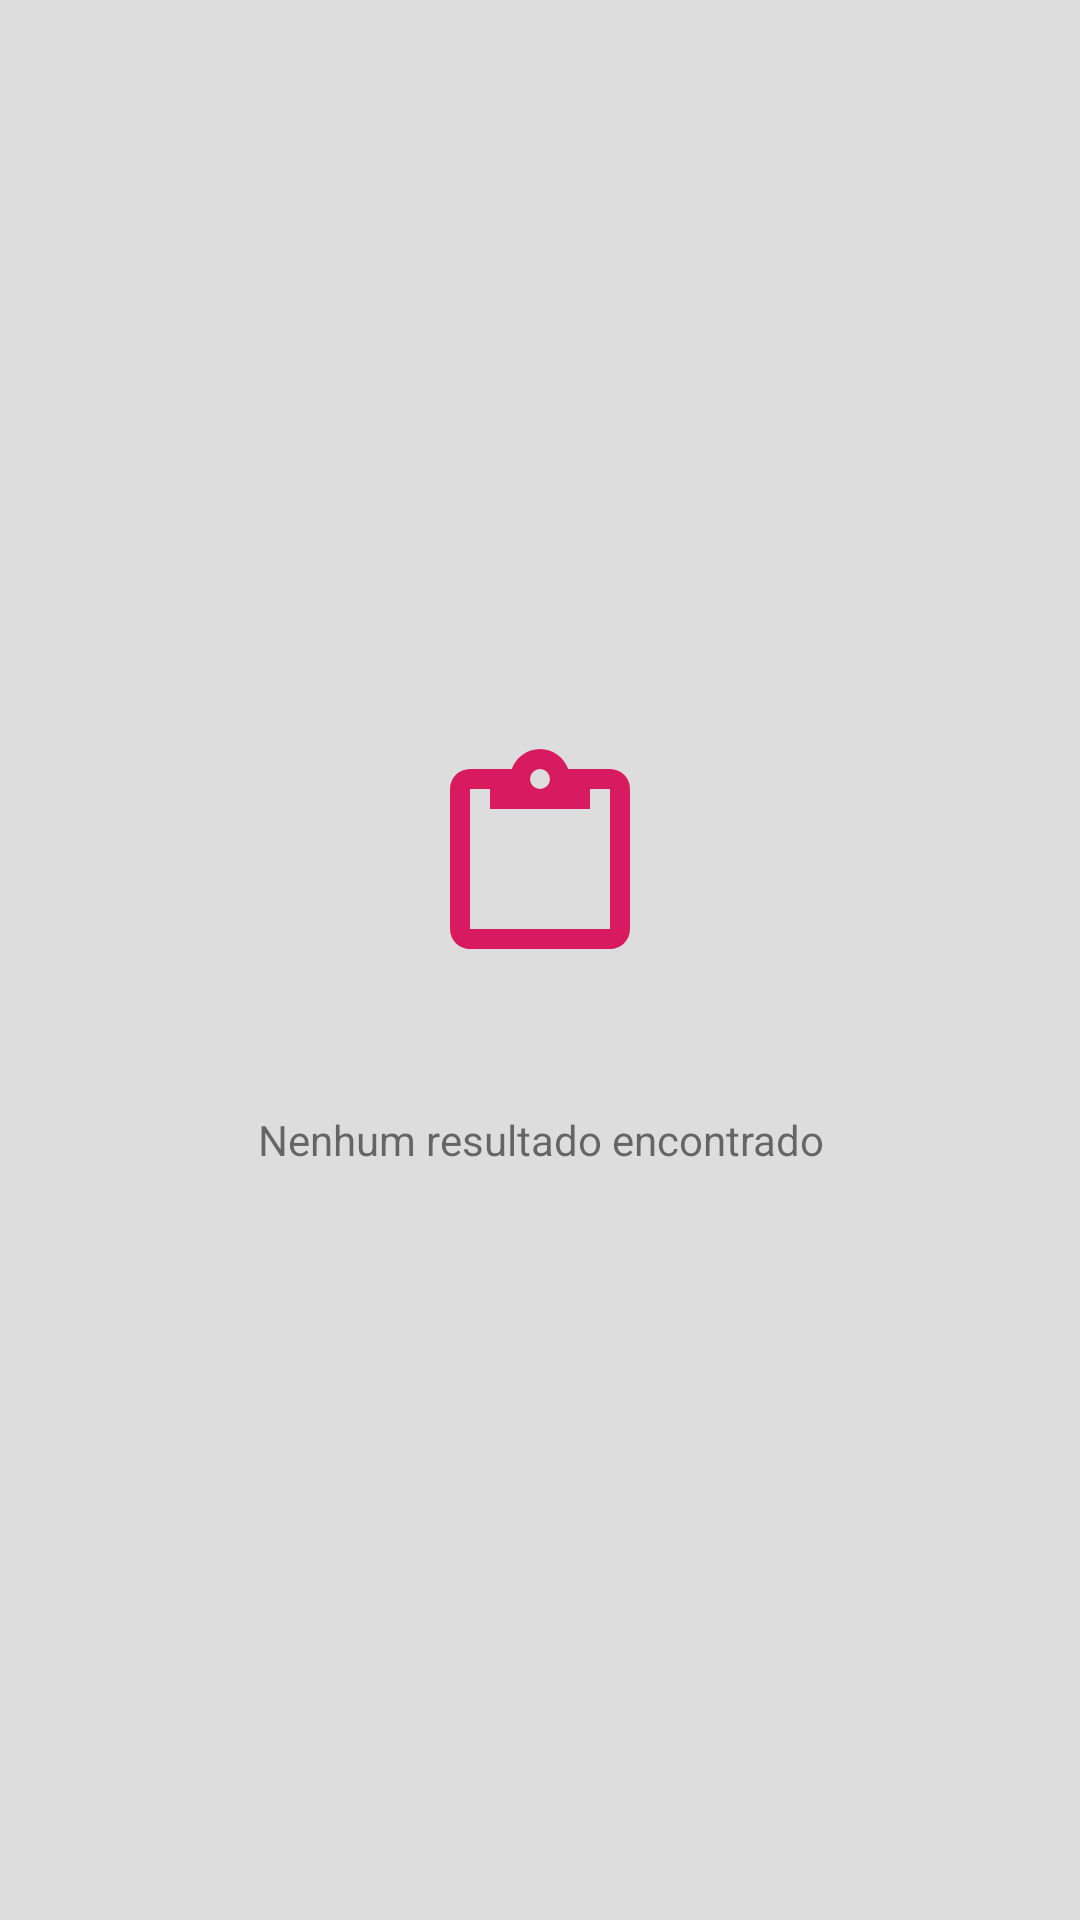

Where icons sit on this 1080x1920 app screen, as (x1=x1, y1=y1, x2=x2, y2=y2):
empty: (x1=450, y1=749, x2=630, y2=949)
